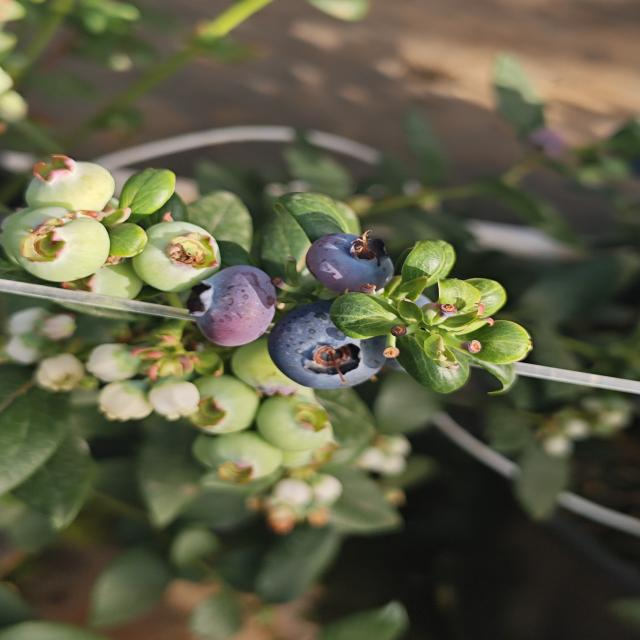ripe: (279, 311, 396, 392), (198, 268, 291, 353), (293, 227, 388, 291)
